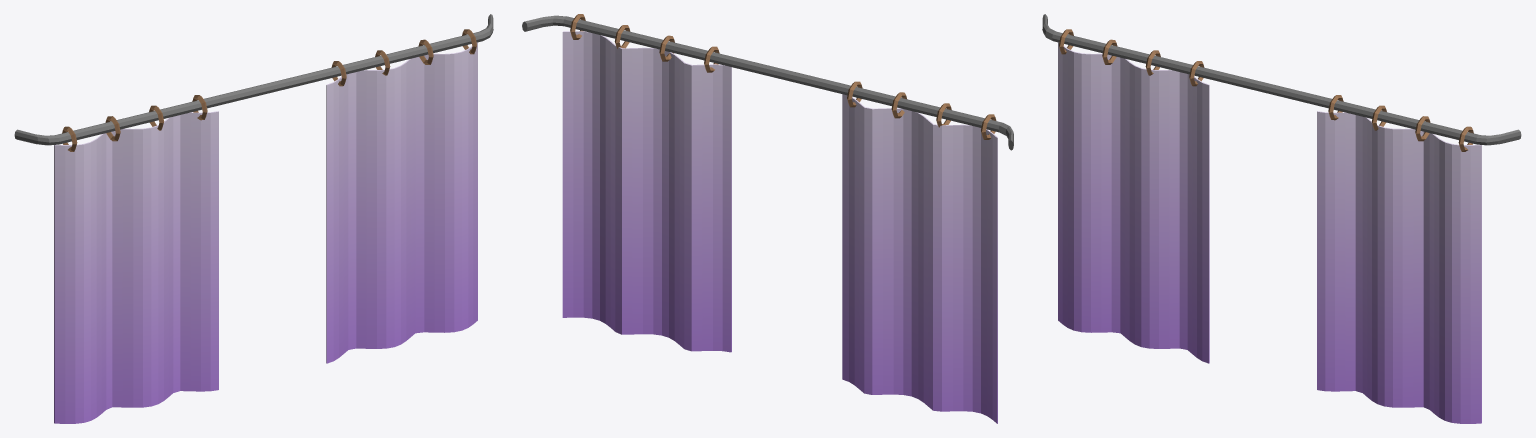
The model's file is Curtains.fbx.
3 renders of one model, left to right at view 1: azimuth 30°, elevation 25°; view 2: azimuth 150°, elevation 25°; view 3: azimuth 330°, elevation 25°, orthographic. The views are drawn at different scales.
Visible parts, largest first — view 1: Curtains; view 2: Curtains; view 3: Curtains.
Part boxes in pixels (x1,y1,x2,y2): Curtains: (14,14,493,423); Curtains: (522,14,1013,423); Curtains: (1042,14,1521,423).
Bounding box in the file's own units: 3.6 × 2.13 × 0.2908.
Materials: 1 (1 with a texture image).
